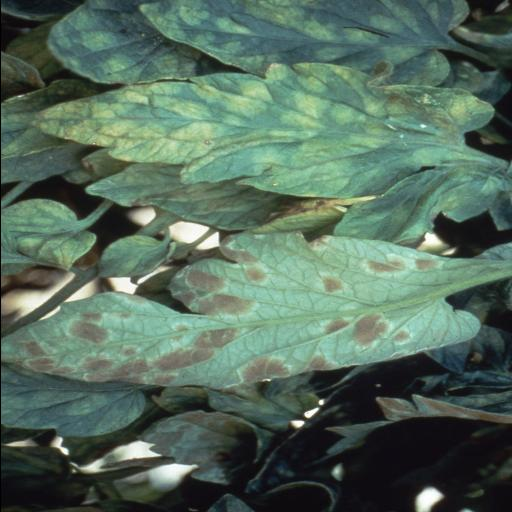Leaf Mold: (0, 232, 481, 390), (26, 62, 492, 198), (138, 0, 470, 68)
